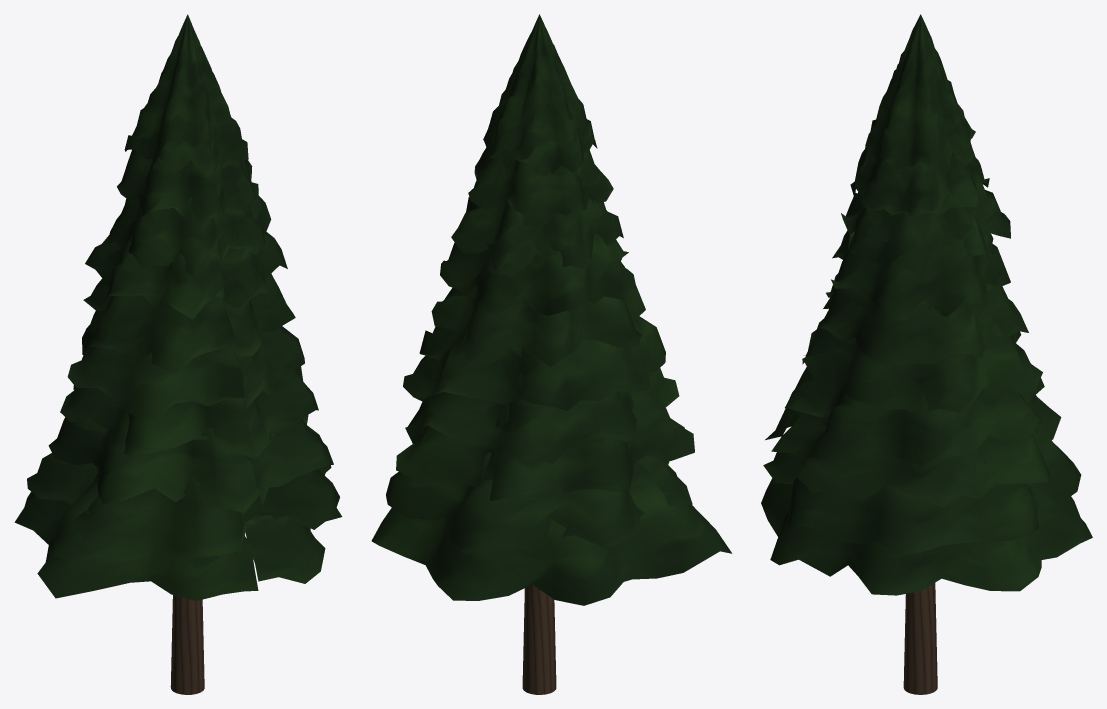
Rendered from pine_L3.glb.
The picture shows the model from 3 angles, left to right: view 1: azimuth 30°, elevation 25°; view 2: azimuth 150°, elevation 25°; view 3: azimuth 270°, elevation 25°; orthographic projection.
Bounding box in the file's own units: 7.06 × 15.26 × 6.81.
Materials: 2 (2 with a texture image).
